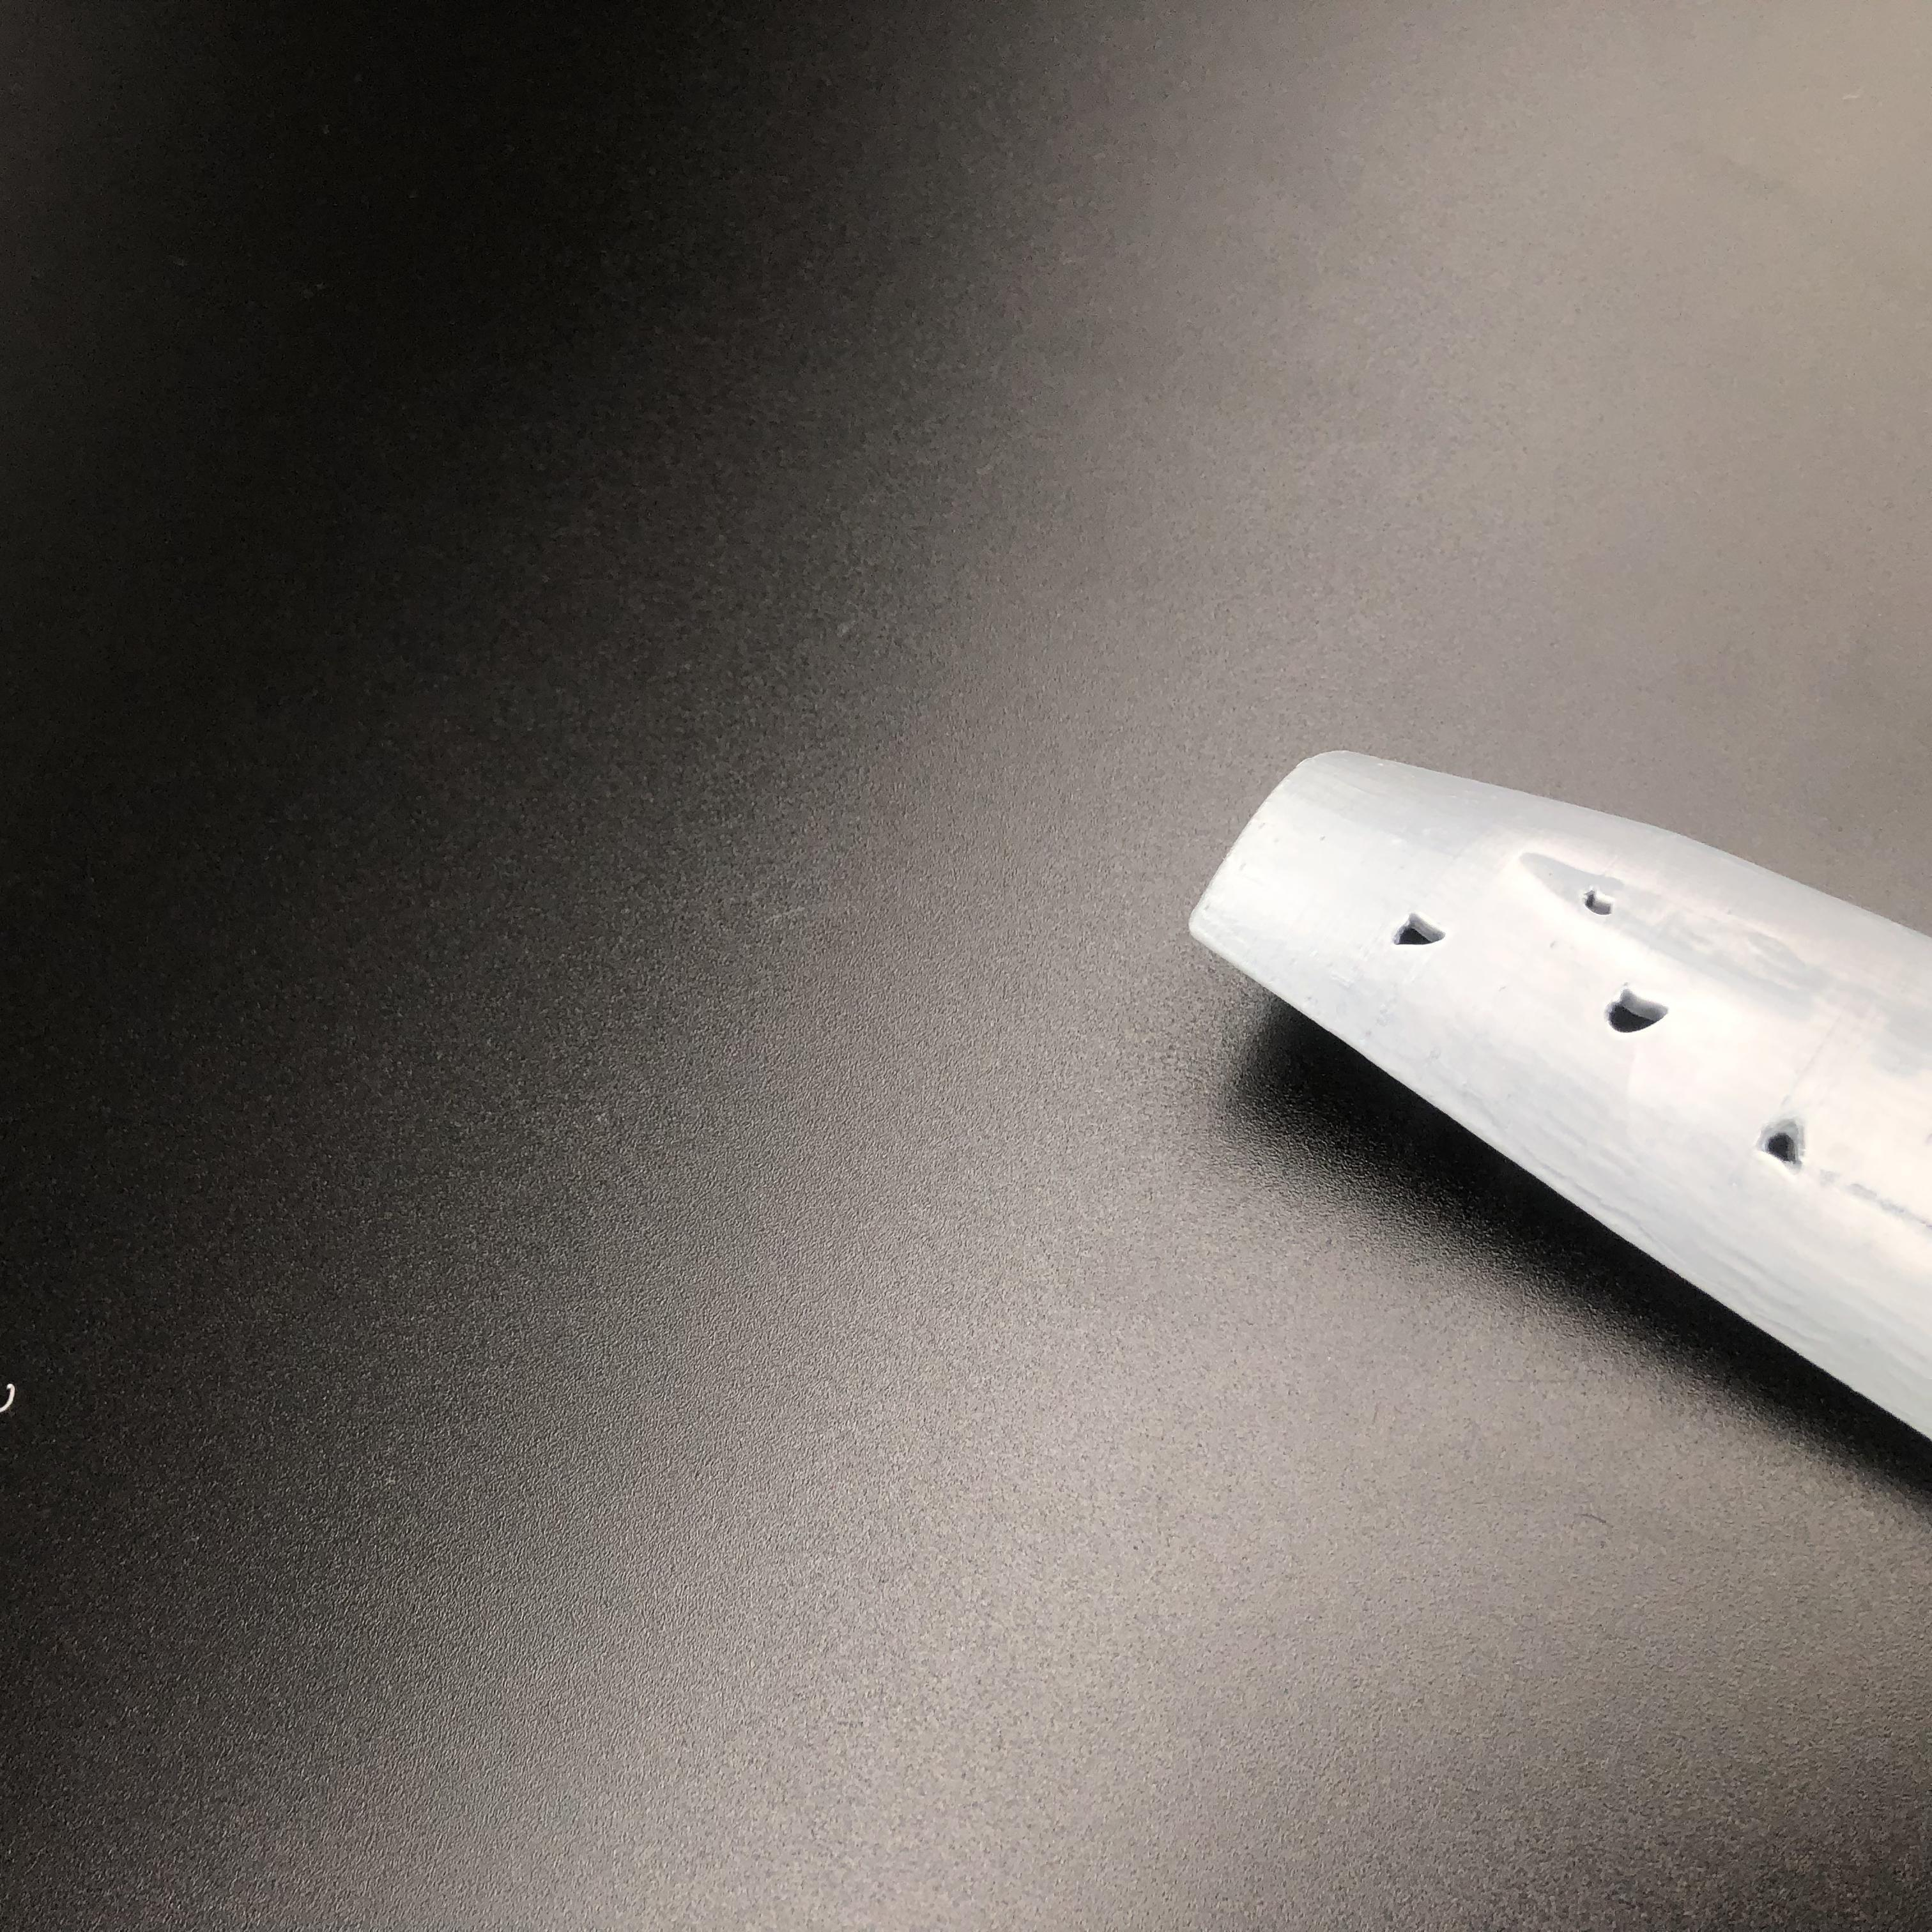breakdown: (1396, 874, 1822, 1175)
